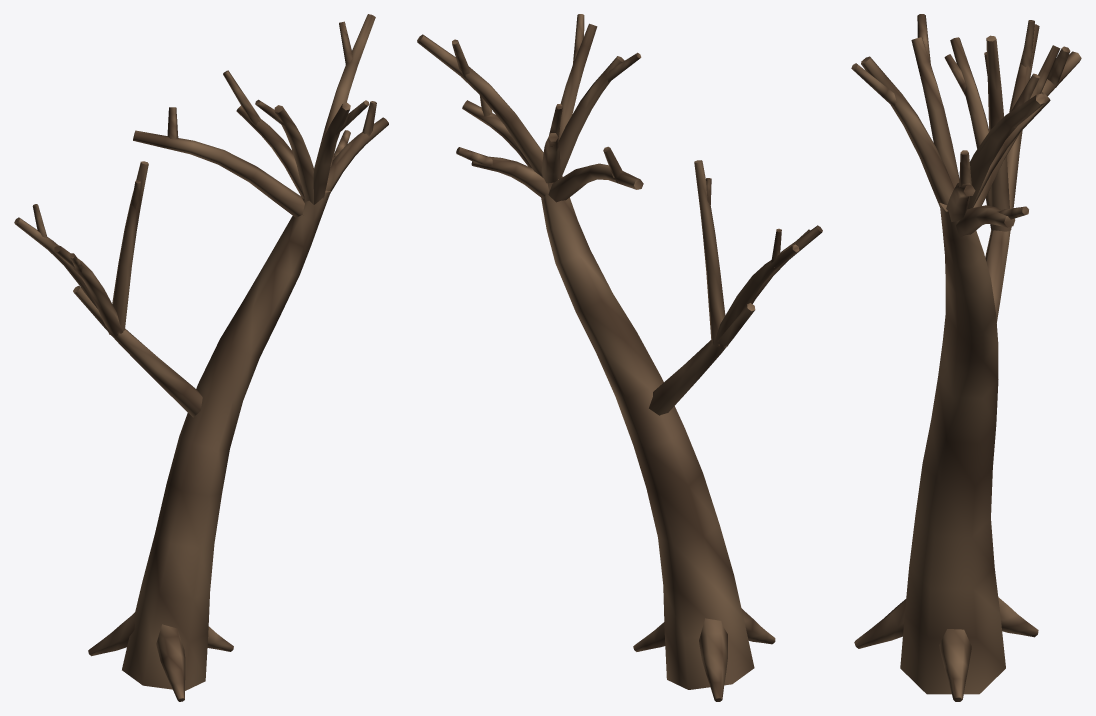
File: SM_StylizedBareTree3.fbx
3 renders of one model, left to right at view 1: azimuth 30°, elevation 25°; view 2: azimuth 150°, elevation 25°; view 3: azimuth 270°, elevation 25°, orthographic. The views are drawn at different scales.
Parts seen in each view (by area): view 1: SM_StylizedBareTree3; view 2: SM_StylizedBareTree3; view 3: SM_StylizedBareTree3.
Part boxes in pixels (x1,y1,x2,y2): SM_StylizedBareTree3: (14,14,388,701); SM_StylizedBareTree3: (417,14,822,701); SM_StylizedBareTree3: (851,14,1081,701).
Size of what is drawn, in the model's own units: 3.46 by 5.32 by 1.52.
